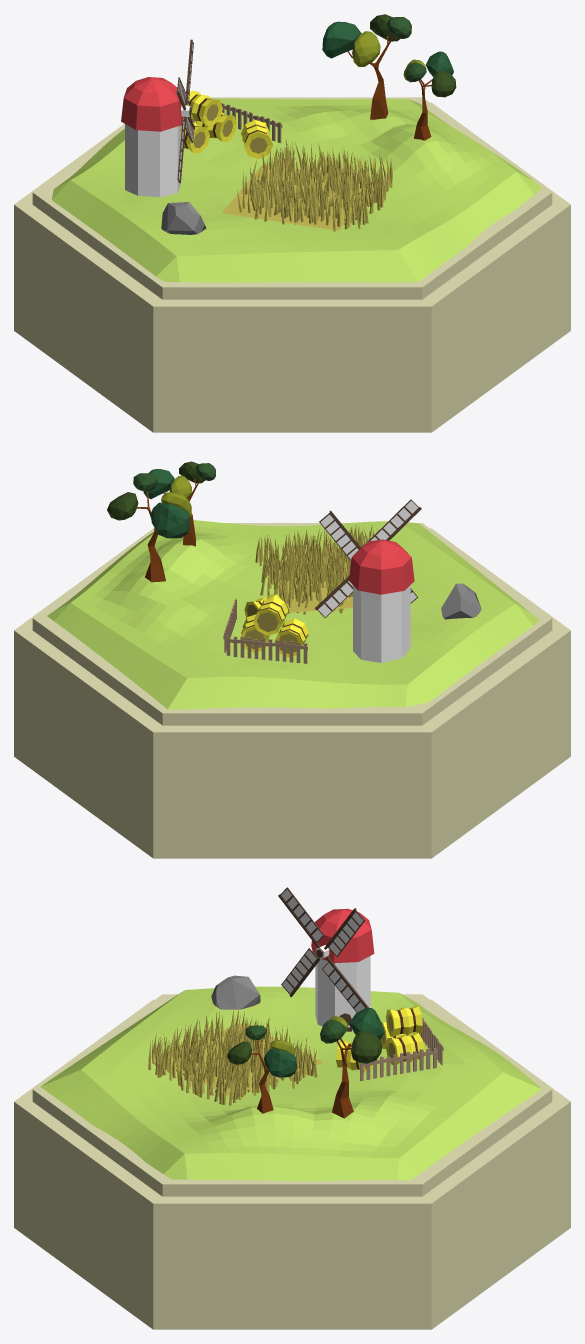
Rendered from fbx_farm.fbx.
3 views of the same model, one above another, from view 1: azimuth 30°, elevation 25°; view 2: azimuth 150°, elevation 25°; view 3: azimuth 270°, elevation 25° (orthographic).
Visible parts, largest first — view 1: Farm, Crop, Mill, Tree.004, Plane, Tree.005, Rock1.002, Bale 3, Bale 4, Fence.002, Bale 2, Bale 1; view 2: Farm, Crop, Mill, Tree.004, Tree.005, Fence.002, Rock1.002, Bale 4, Plane, Bale 1, Bale 2; view 3: Farm, Crop, Mill, Tree.004, Tree.005, Fence.002, Rock1.002, Plane, Bale 4, Bale 2.
Boxes of the visible parts, x1=… form: Farm: x1=14, y1=97, x2=570, y2=432; Crop: x1=51, y1=98, x2=541, y2=282; Mill: x1=121, y1=39, x2=194, y2=197; Tree.004: x1=322, y1=14, x2=411, y2=119; Plane: x1=222, y1=164, x2=373, y2=230; Tree.005: x1=403, y1=51, x2=456, y2=140; Rock1.002: x1=161, y1=202, x2=206, y2=234; Bale 3: x1=241, y1=120, x2=272, y2=158; Bale 4: x1=187, y1=91, x2=222, y2=126; Fence.002: x1=183, y1=103, x2=282, y2=142; Bale 2: x1=196, y1=112, x2=236, y2=141; Bale 1: x1=180, y1=118, x2=209, y2=153; Farm: x1=14, y1=523, x2=570, y2=858; Crop: x1=47, y1=520, x2=539, y2=709; Mill: x1=314, y1=499, x2=421, y2=662; Tree.004: x1=107, y1=473, x2=191, y2=582; Tree.005: x1=143, y1=461, x2=215, y2=546; Fence.002: x1=223, y1=598, x2=307, y2=663; Rock1.002: x1=441, y1=583, x2=481, y2=619; Bale 4: x1=253, y1=597, x2=288, y2=635; Plane: x1=269, y1=557, x2=352, y2=612; Bale 1: x1=274, y1=618, x2=308, y2=657; Bale 2: x1=239, y1=614, x2=269, y2=652; Farm: x1=14, y1=994, x2=570, y2=1329; Crop: x1=40, y1=986, x2=541, y2=1181; Mill: x1=278, y1=887, x2=374, y2=1031; Tree.004: x1=320, y1=1007, x2=384, y2=1118; Tree.005: x1=227, y1=1025, x2=297, y2=1113; Fence.002: x1=360, y1=1017, x2=443, y2=1081; Rock1.002: x1=211, y1=975, x2=260, y2=1009; Plane: x1=151, y1=1023, x2=323, y2=1095; Bale 4: x1=386, y1=1006, x2=422, y2=1036; Bale 2: x1=385, y1=1033, x2=424, y2=1064.
Size of the model in its own units: 173 by 113 by 200.
